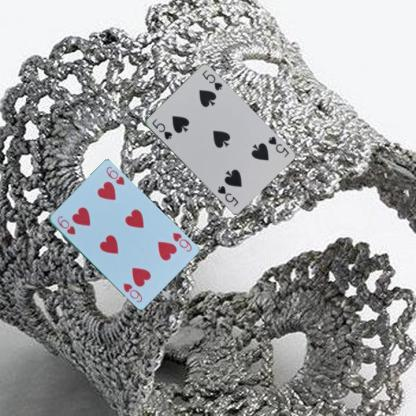5s: (149, 116, 173, 141), (265, 134, 290, 158)
6h: (54, 213, 76, 236), (170, 230, 192, 253)
